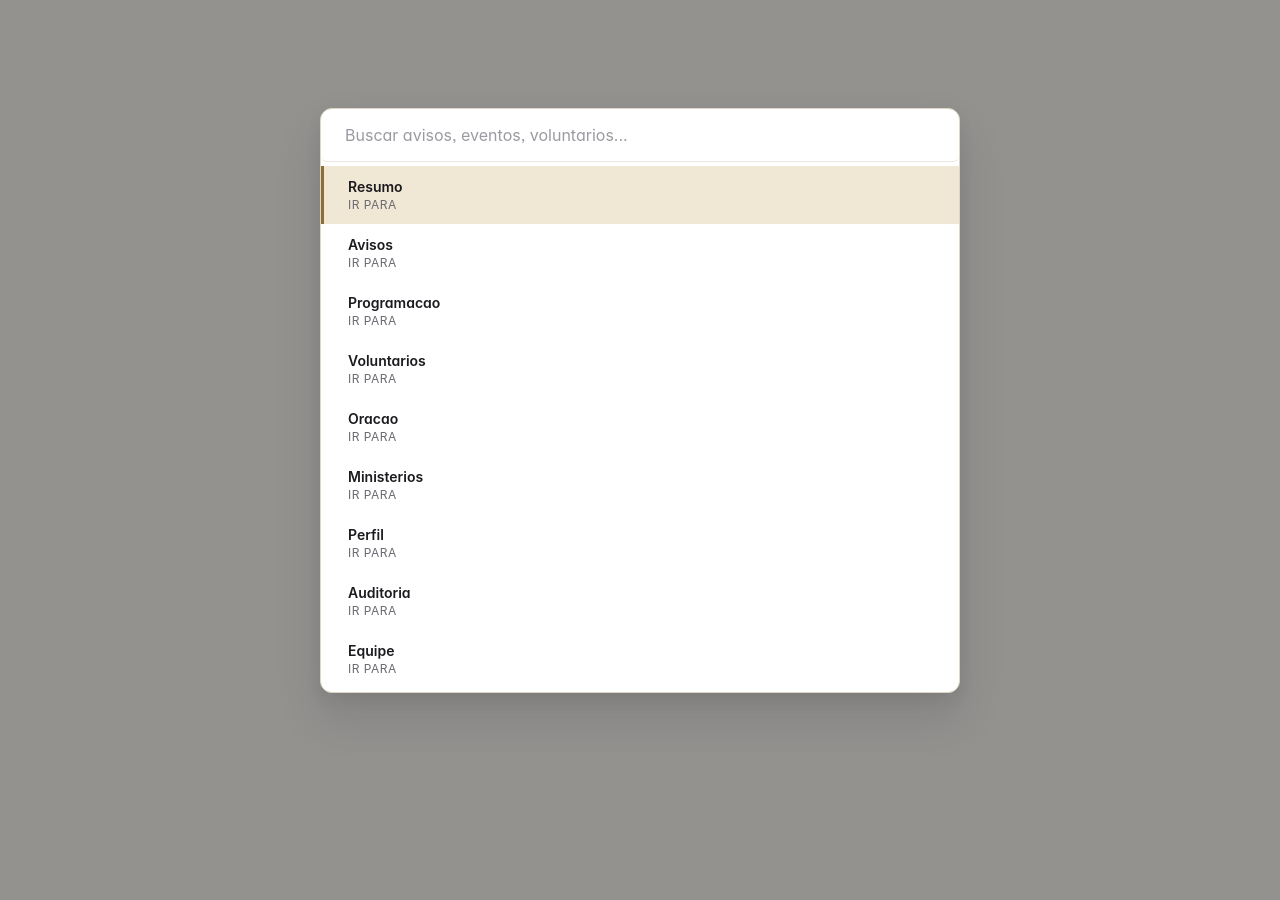
Test case: CommandPalette › renders 'Nenhum resultado' when no items match
Step 1. Type "zzzz-nada" into the dropdown labelled "Buscar" → (640, 136), box [321,109,959,162]
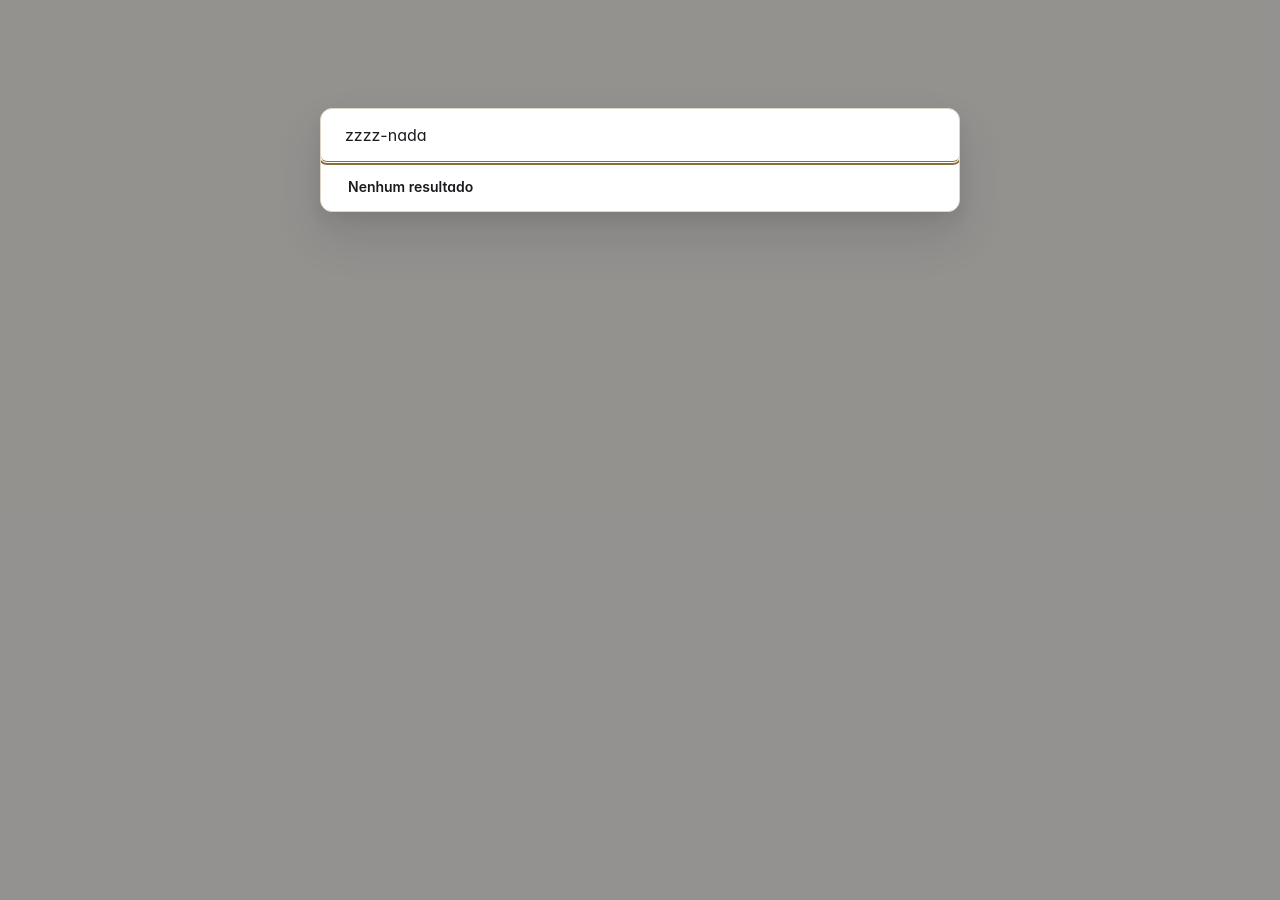
Now the text "Nenhum resultado" is shown, box [348,178,473,195]
